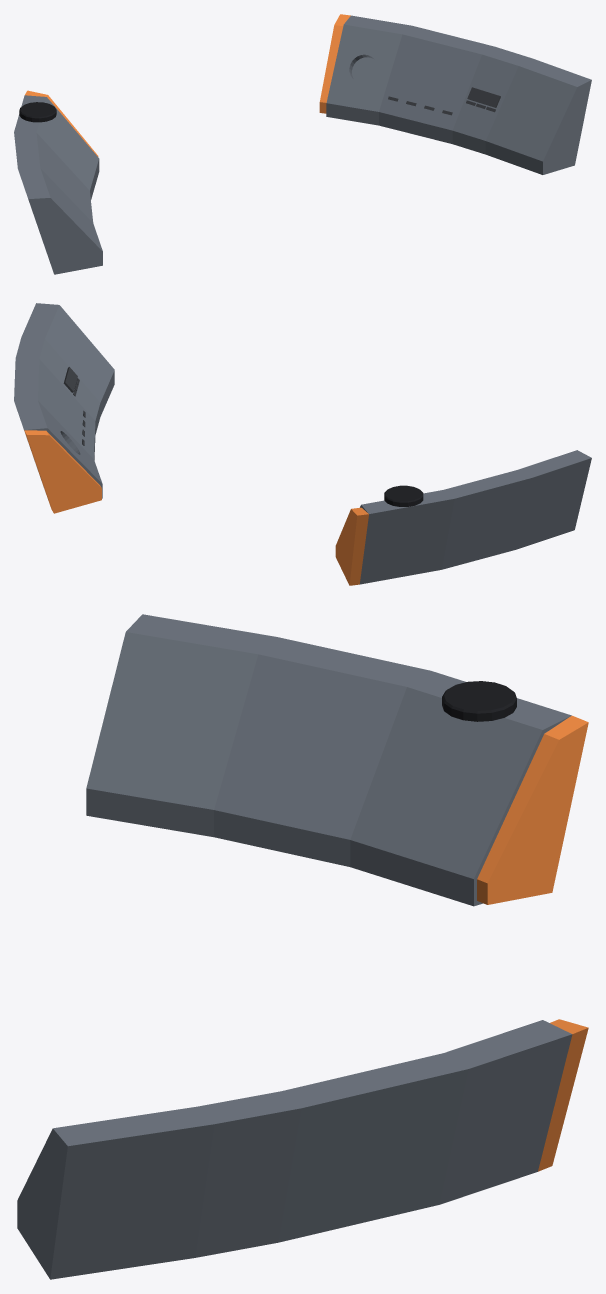
The model's file is pilot_station_strip.glb.
3 views of the same model, one above another, from view 1: azimuth 30°, elevation 25°; view 2: azimuth 150°, elevation 25°; view 3: azimuth 270°, elevation 25° (orthographic). The views are drawn at different scales.
Parts seen in each view (by area): view 1: PilotStrip; view 2: PilotStrip; view 3: PilotStrip.
Boxes of the visible parts, x1,y1,x2,y2 form: PilotStrip: (14, 14, 591, 274); PilotStrip: (14, 303, 591, 585); PilotStrip: (17, 614, 588, 1279).
Size of the model in its own units: 2.51 by 0.362 by 1.14.
